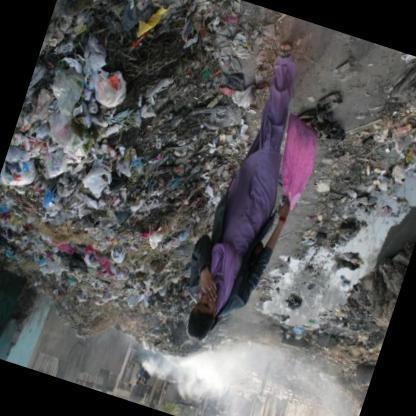Garbage: (0, 27, 199, 256), (0, 0, 144, 283), (54, 9, 242, 183), (71, 182, 203, 348), (6, 158, 132, 302), (290, 76, 359, 154), (388, 61, 415, 161)
